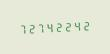four: (44, 20, 52, 34), (71, 19, 79, 32)
seven: (17, 21, 25, 35), (35, 21, 43, 34)
two: (26, 21, 34, 35), (62, 19, 70, 33), (80, 18, 88, 32), (53, 20, 61, 33)
